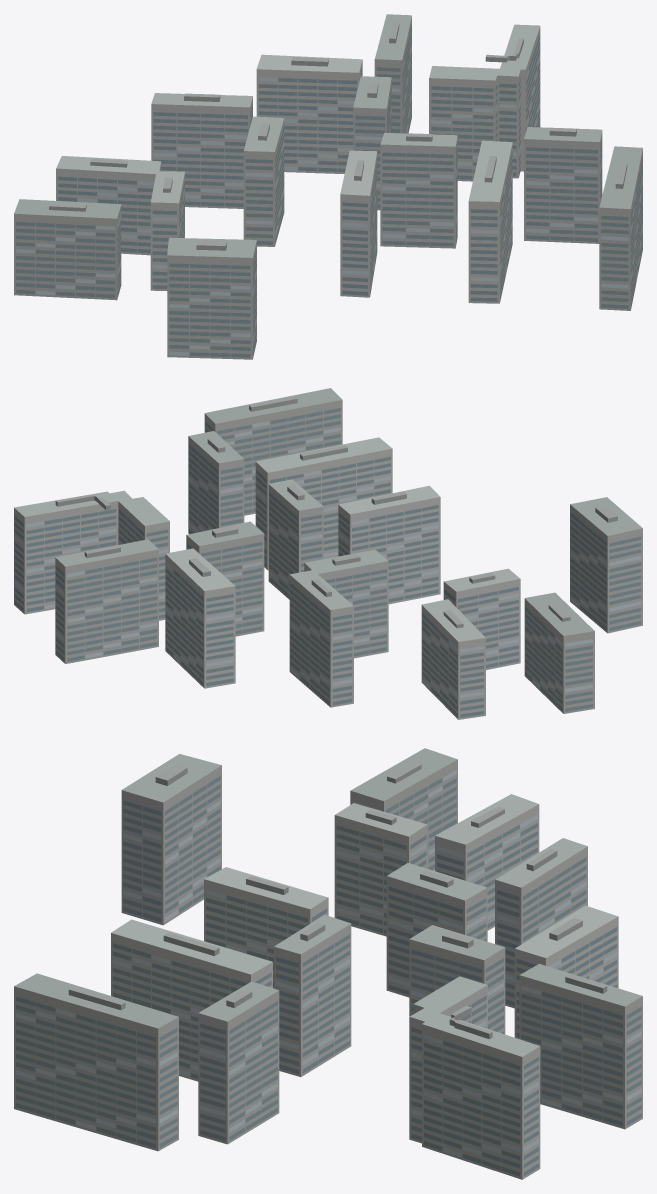
The model's file is apt-a15780905.glb.
3 renders of one model, top to bottom at view 1: azimuth 30°, elevation 25°; view 2: azimuth 150°, elevation 25°; view 3: azimuth 270°, elevation 25°, orthographic. The views are drawn at different scales.
Parts seen in each view (by area): view 1: apt-a15780905; view 2: apt-a15780905; view 3: apt-a15780905.
Boxes of the visible parts, x1,y1,x2,y2 form: apt-a15780905: (14,14,642,359); apt-a15780905: (14,388,642,719); apt-a15780905: (14,748,642,1179).
Bounding box in the file's own units: 266 × 47.81 × 212.
